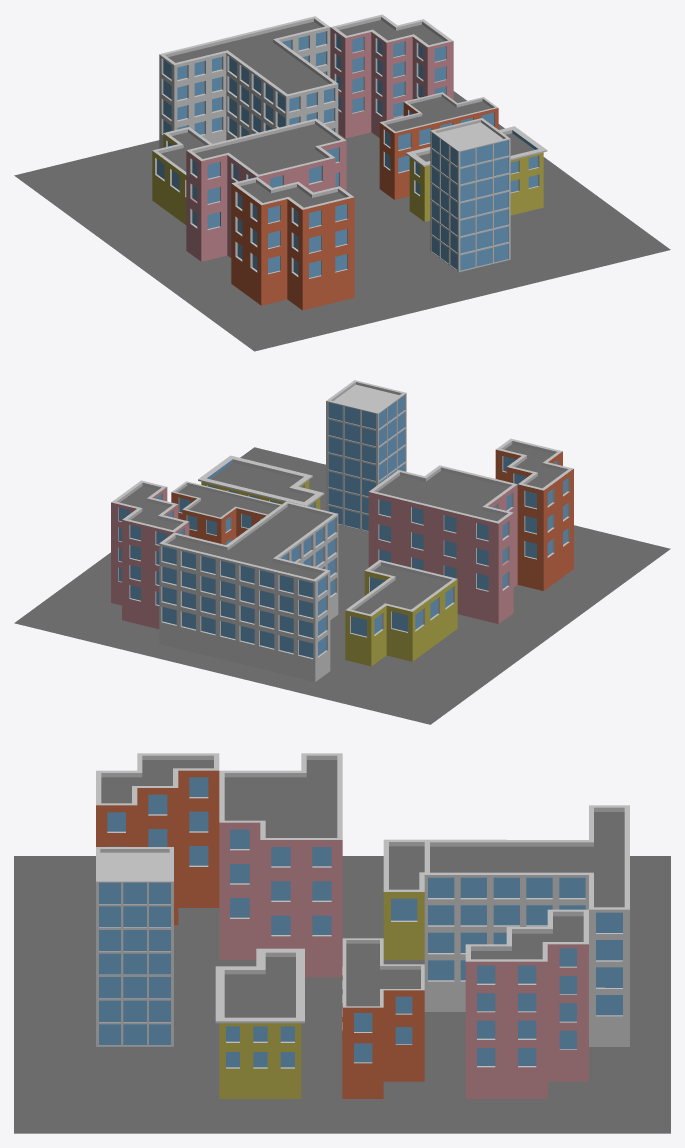
File: city.fbx
3 views of the same model, one above another, from view 1: azimuth 30°, elevation 25°; view 2: azimuth 150°, elevation 25°; view 3: azimuth 270°, elevation 25° (orthographic). The views are drawn at different scales.
Parts seen in each view (by area): view 1: City; view 2: City; view 3: City.
Boxes of the visible parts, <box> form: City: <box>14,14,670,351</box>; City: <box>14,380,670,724</box>; City: <box>14,753,670,1133</box>.
Bounding box in the file's own units: 420 × 116 × 420.
